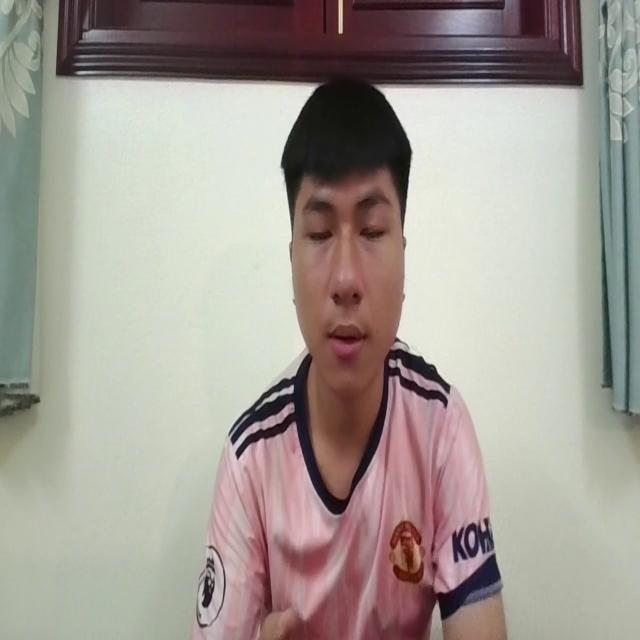student: (193, 73, 509, 640)
